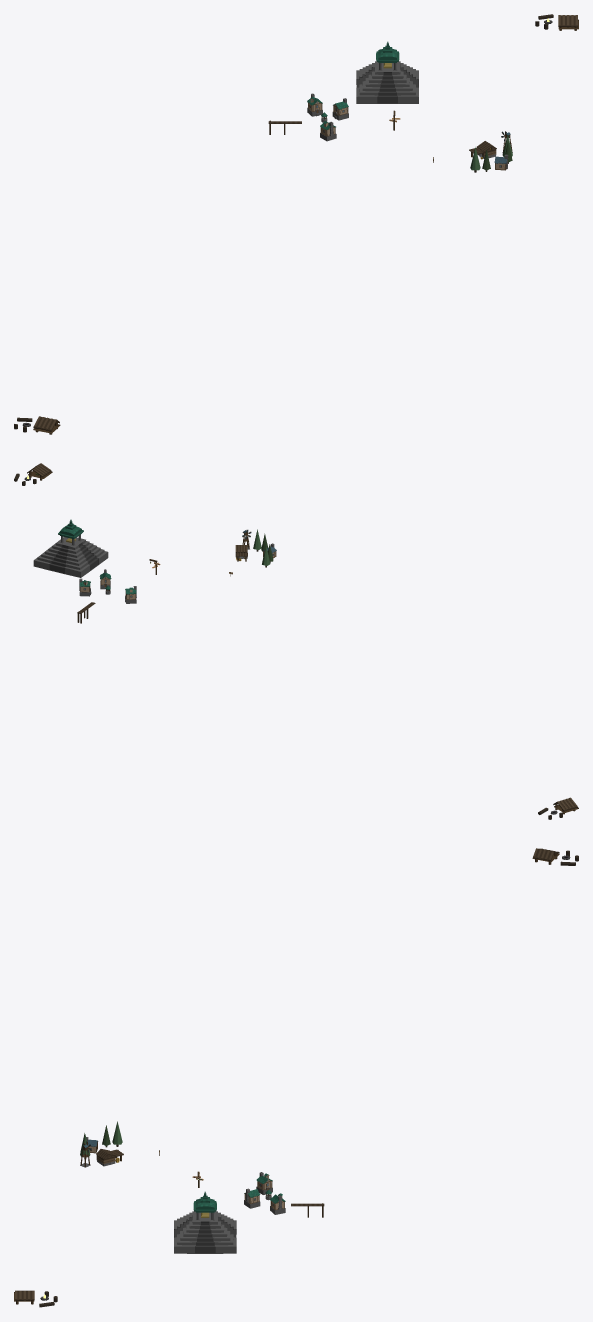
The model's file is Gargadok.glb.
3 renders of one model, top to bottom at view 1: azimuth 90°, elevation 25°; view 2: azimuth 150°, elevation 25°; view 3: azimuth 270°, elevation 25°, orthographic. The views are drawn at different scales.
Parts seen in each view (by area): view 1: Myrwood Shrine; view 2: Myrwood Shrine; view 3: Myrwood Shrine.
Part boxes in pixels (x1=…): Myrwood Shrine: x1=356, y1=41, x2=418, y2=103; Myrwood Shrine: x1=33, y1=519, x2=108, y2=577; Myrwood Shrine: x1=174, y1=1191, x2=236, y2=1253.
Bounding box in the file's own units: 41.74 × 2.6 × 22.81.
